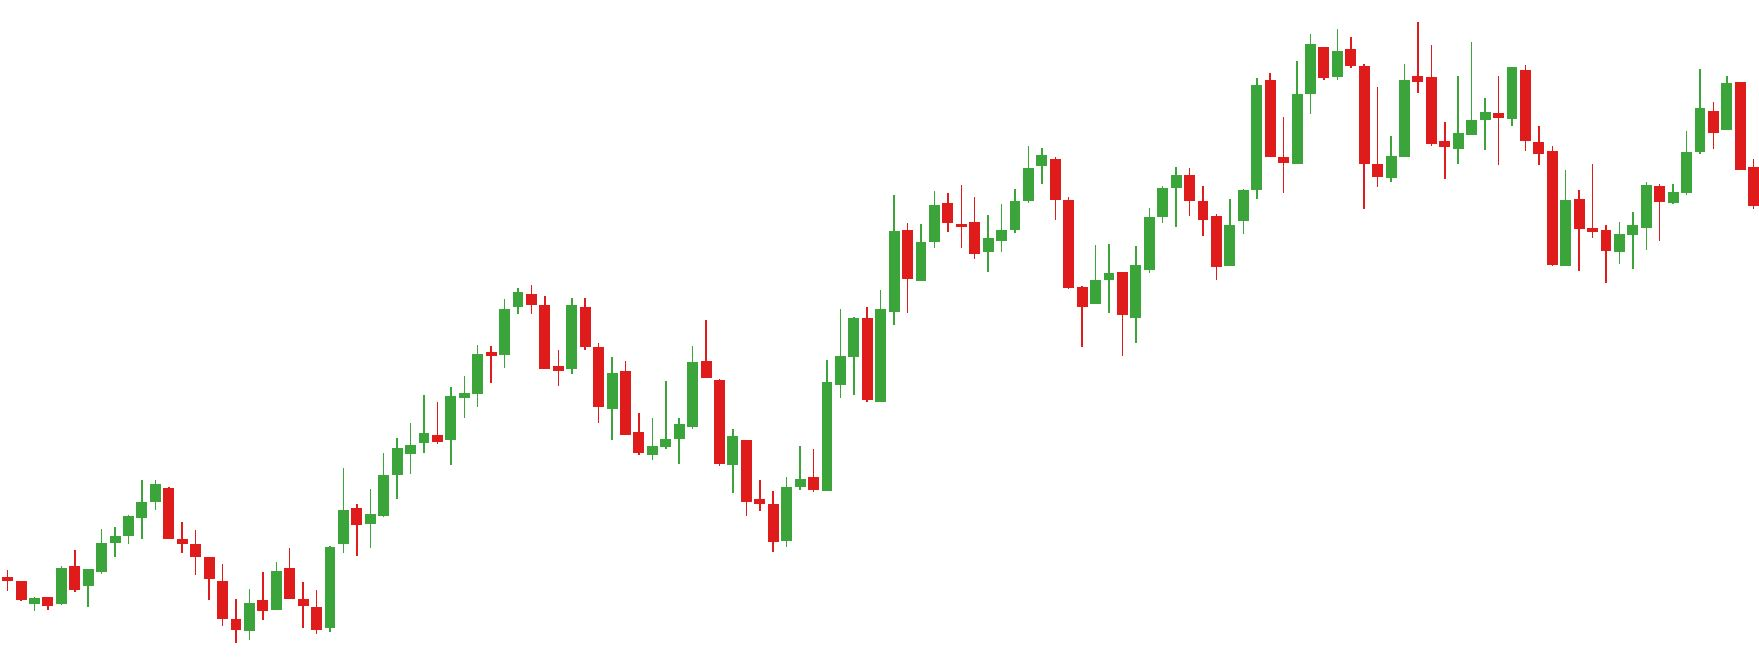buy: (70, 520, 257, 641)
sell: (1301, 16, 1425, 134)
